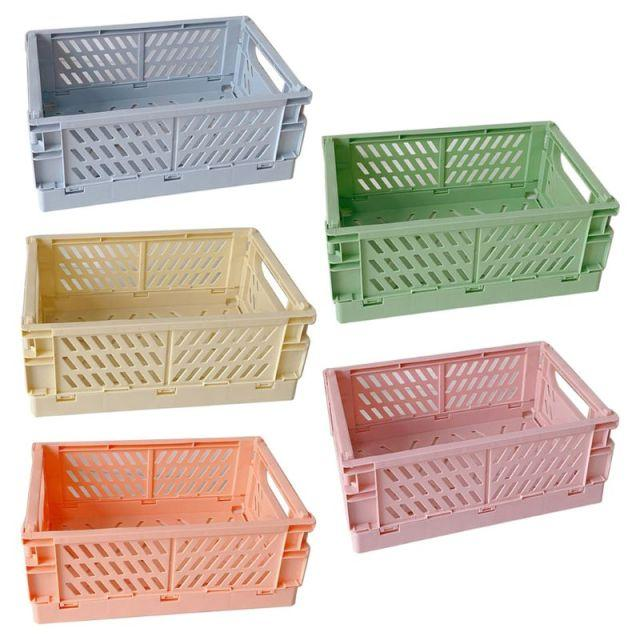basket: (317, 314, 636, 555), (313, 100, 630, 323), (20, 6, 320, 211), (17, 220, 321, 417), (17, 431, 319, 625)
